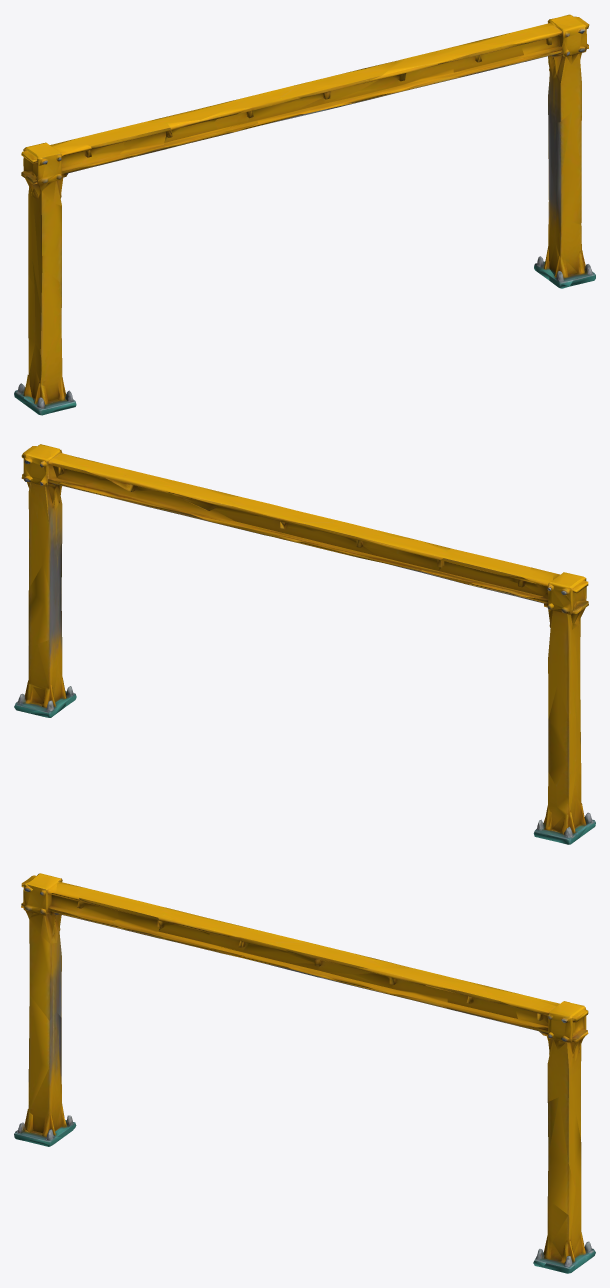
Rendered from gantry-crane.glb.
3 views of the same model, one above another, from view 1: azimuth 30°, elevation 25°; view 2: azimuth 150°, elevation 25°; view 3: azimuth 330°, elevation 25° (orthographic).
Parts seen in each view (by area): view 1: gantry-frame; view 2: gantry-frame; view 3: gantry-frame.
Boxes of the visible parts, x1=… form: gantry-frame: x1=14, y1=14, x2=595, y2=415; gantry-frame: x1=14, y1=444, x2=595, y2=844; gantry-frame: x1=14, y1=873, x2=595, y2=1273.
Size of the model in its own units: 15 by 6.5 by 1.24.
Materials: 1 (1 with a texture image).
